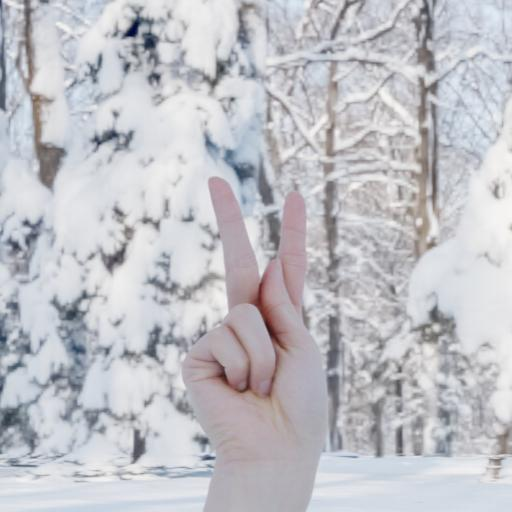K: (176, 169, 330, 466)
